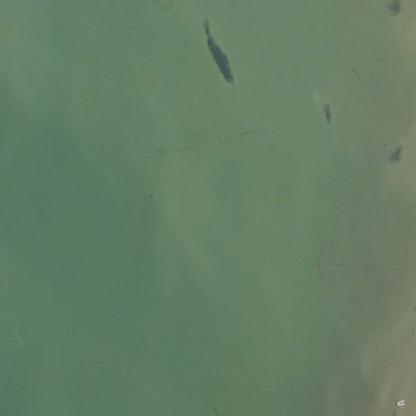ship: (396, 399, 402, 407)
